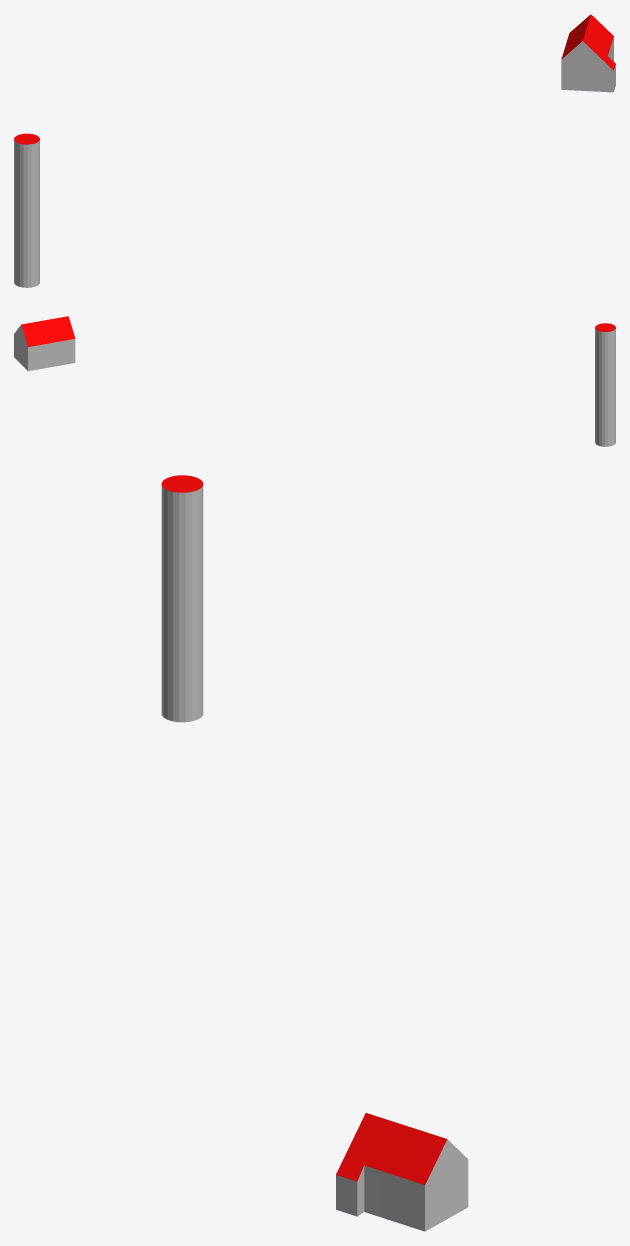
3 renders of one model, top to bottom at view 1: azimuth 30°, elevation 25°; view 2: azimuth 150°, elevation 25°; view 3: azimuth 270°, elevation 25°, orthographic. The views are drawn at different scales.
Size of the model in its own units: 148 by 30.16 by 36.51.
